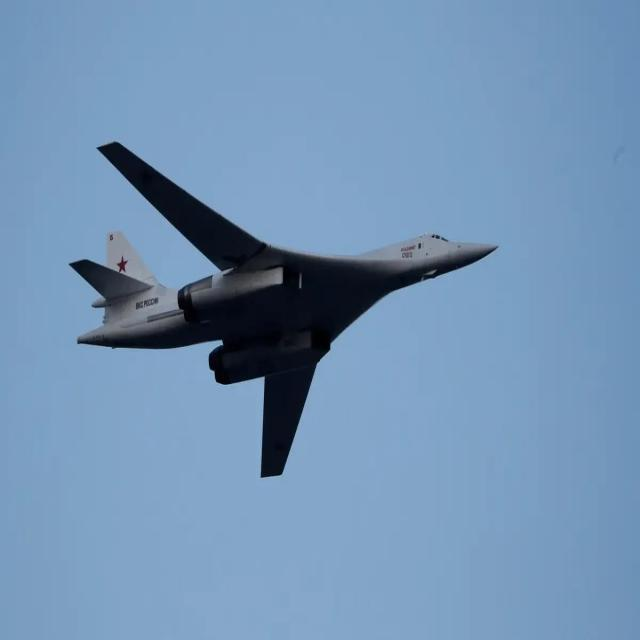Tu160: (61, 91, 508, 528)
